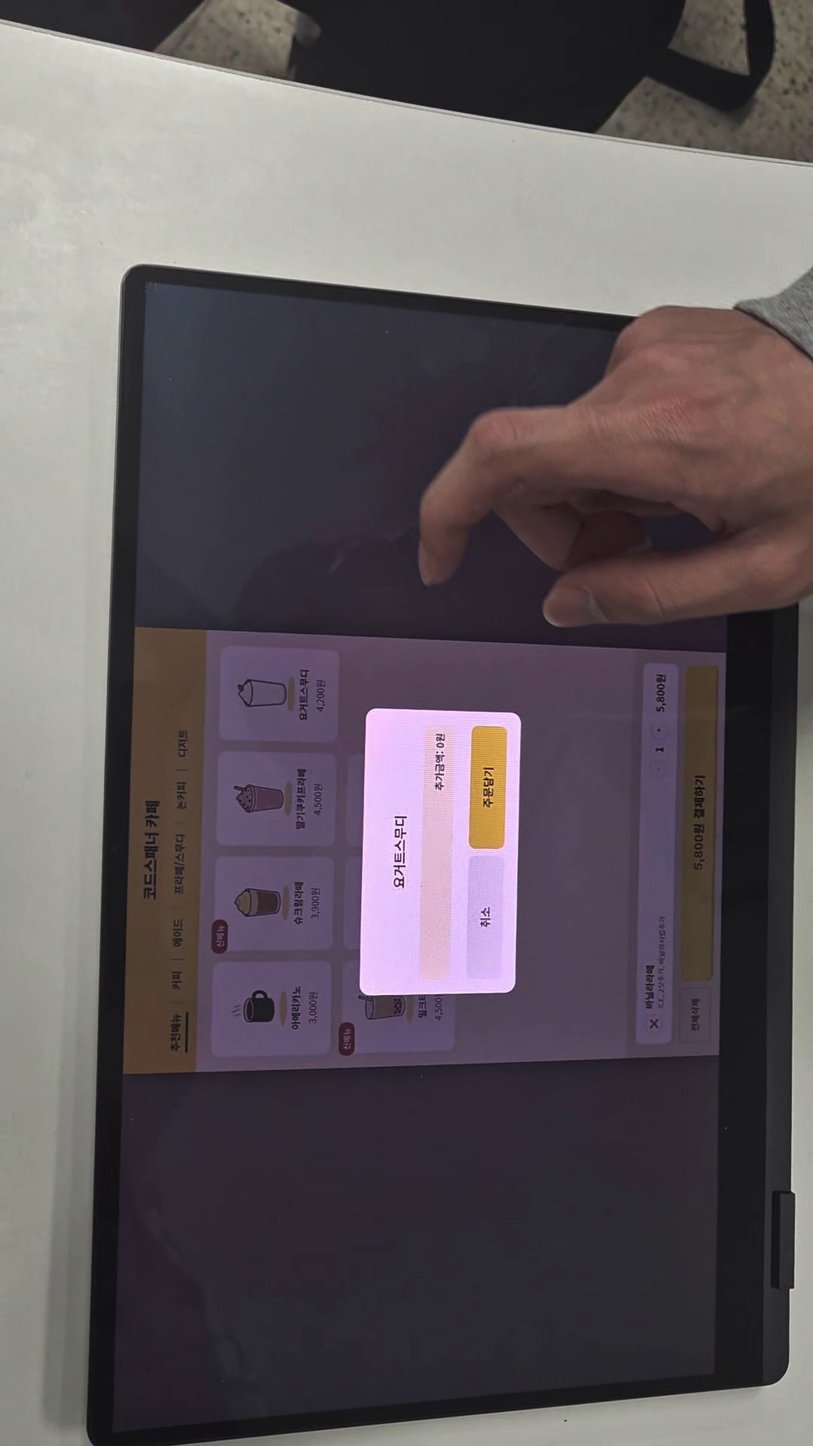action_button: (469, 726, 507, 850), (467, 855, 504, 981)
popup_modal: (360, 710, 519, 995)
